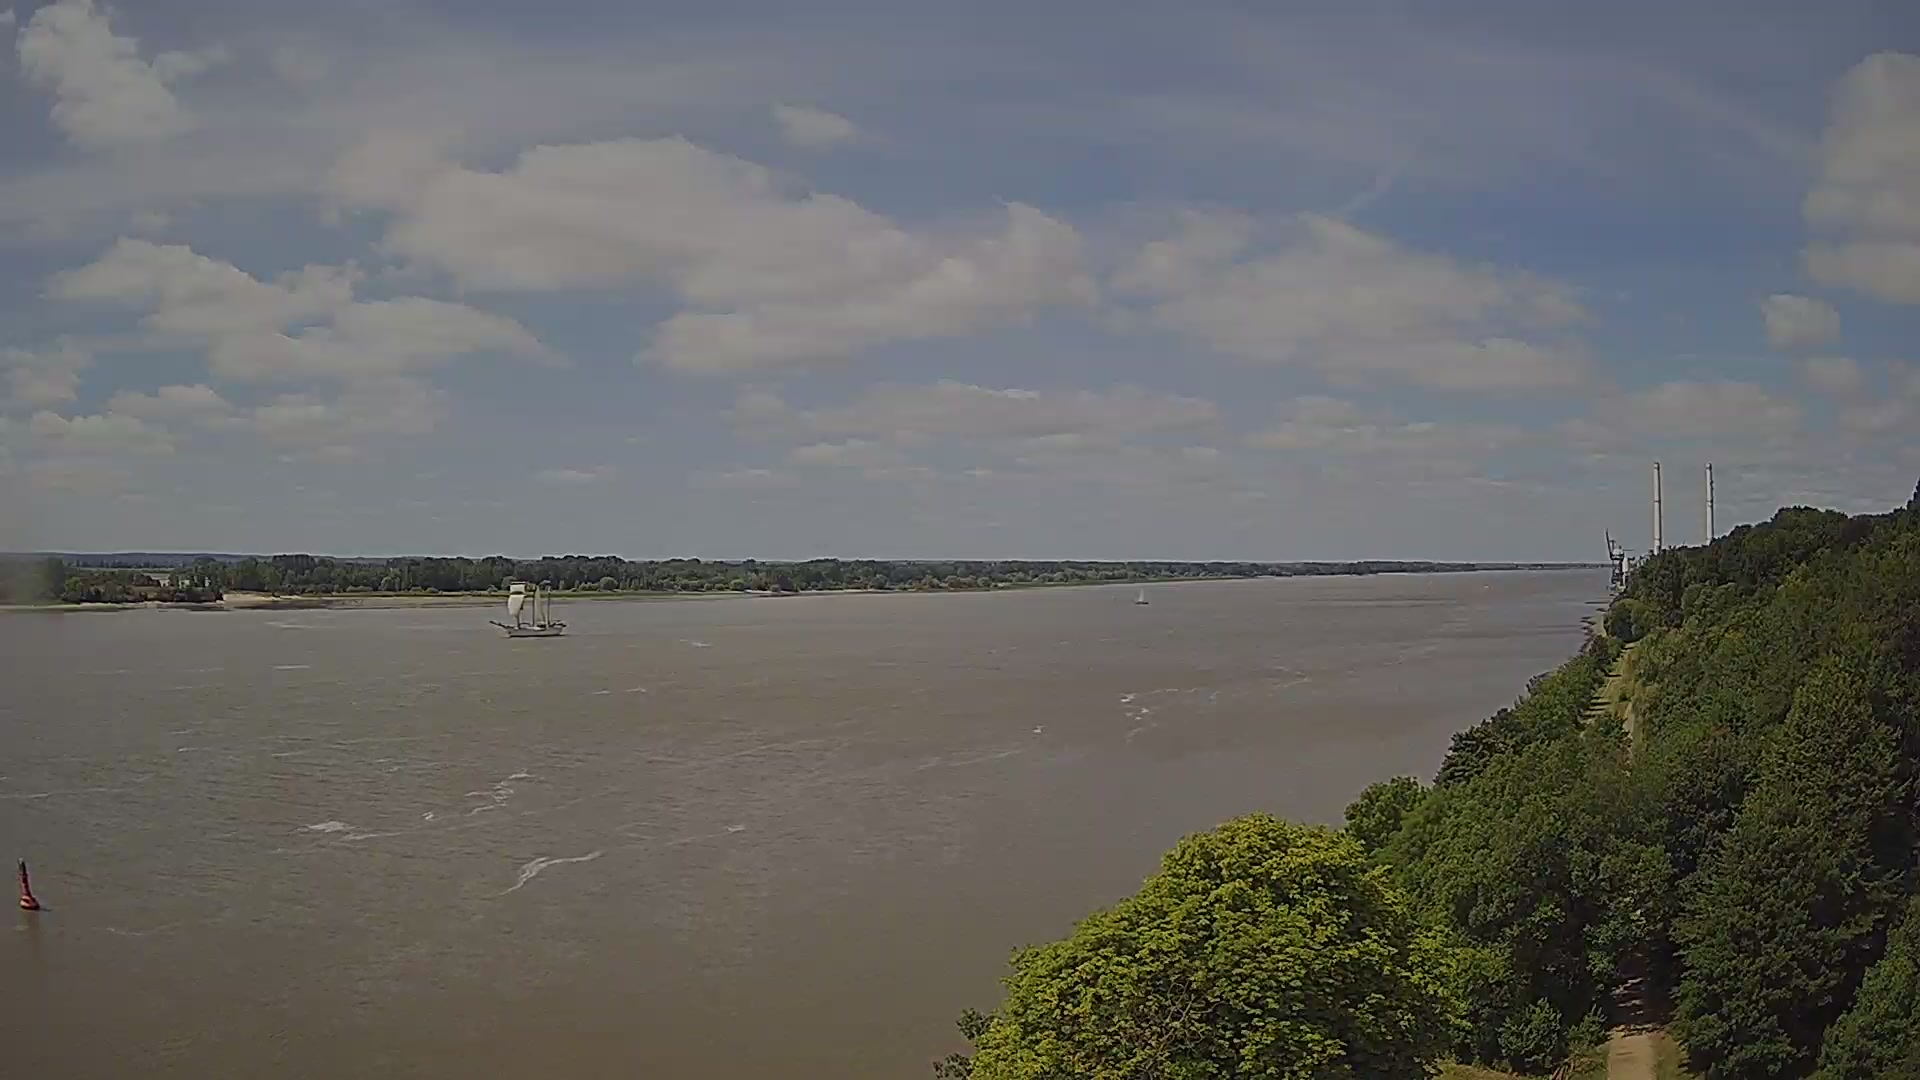sea: (488, 582, 567, 637), (1134, 587, 1149, 604)
